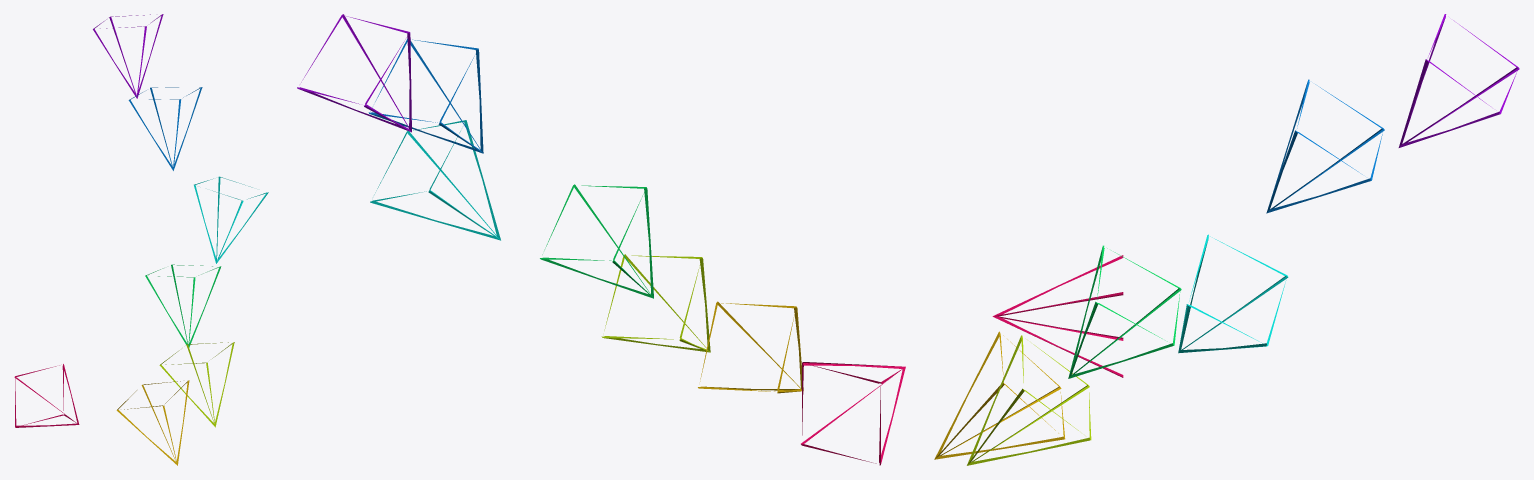
Rendered from wrist_video_60.glb.
3 views of the same model, side by side, from view 1: azimuth 30°, elevation 25°; view 2: azimuth 150°, elevation 25°; view 3: azimuth 270°, elevation 25° (orthographic). The views are drawn at different scales.
Visible parts, largest first — view 1: world; view 2: world; view 3: world.
Part boxes in pixels (x1,y1,x2,y2): world: (14, 14, 268, 465); world: (297, 14, 905, 465); world: (934, 14, 1519, 465).
Bounding box in the file's own units: 0.5472 × 0.5993 × 0.6162.
